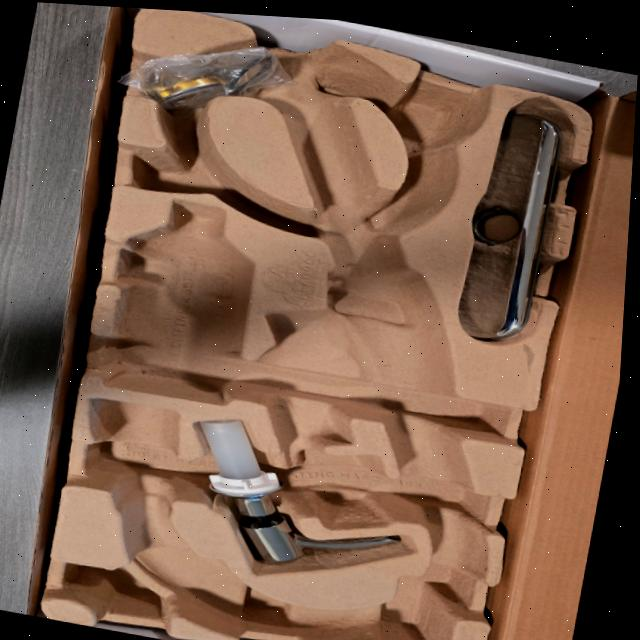1m: (91, 26, 488, 640)
2: (194, 420, 403, 566)
3m: (109, 198, 253, 401)
4: (457, 112, 558, 341)
5: (400, 95, 465, 146)
6: (113, 44, 301, 116)
7m: (132, 124, 267, 209)
